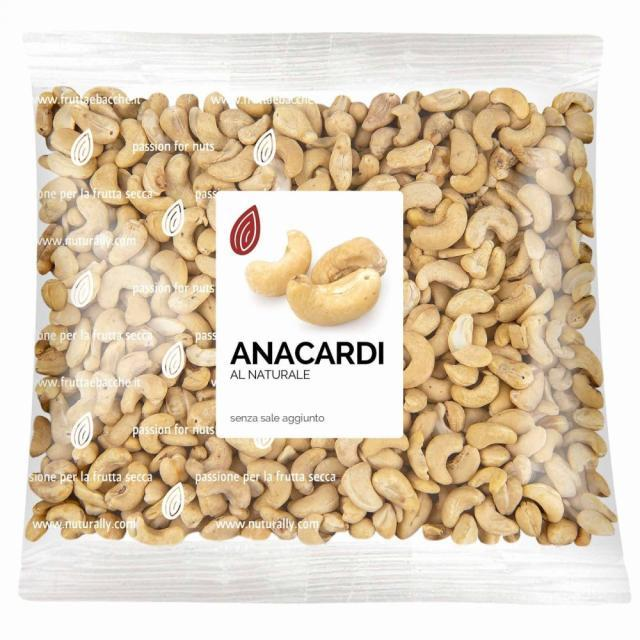Frutta secca: (408, 117, 596, 531)
